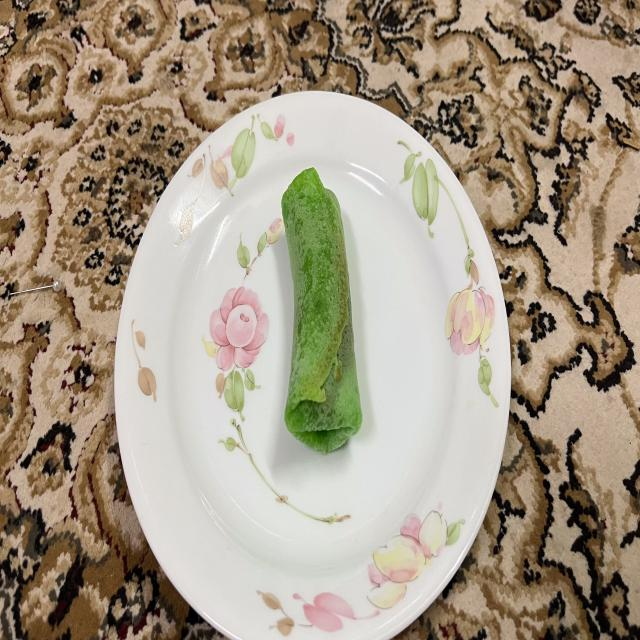Kuih-Ketayap: (281, 167, 362, 453)
